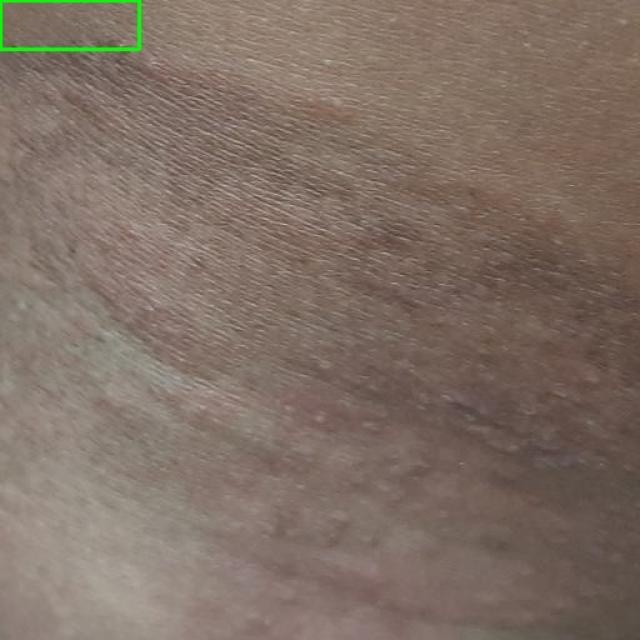Tinea Corporis: (0, 0, 139, 49)
